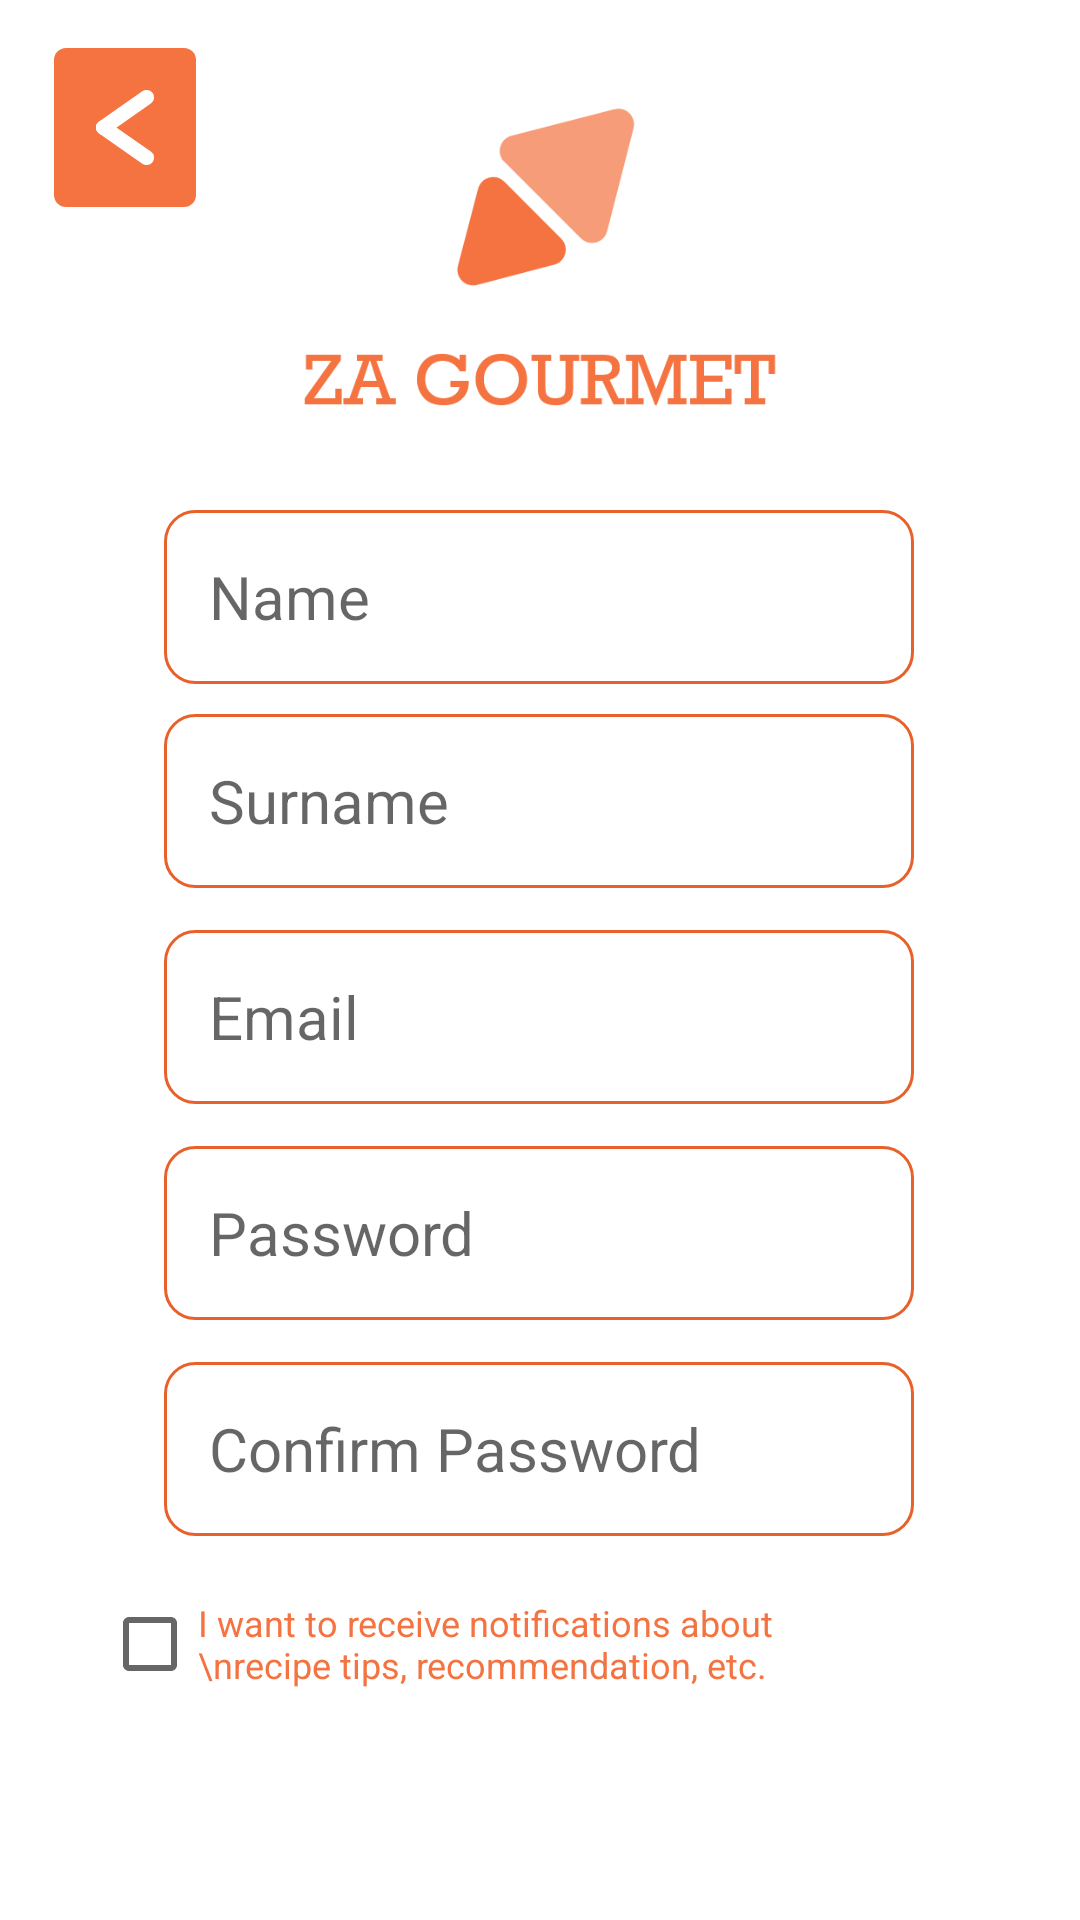

Named icons in this screenshot (1080w x 1920h) and their centers, (x=x, y=y):
Back: (x=125, y=127)
